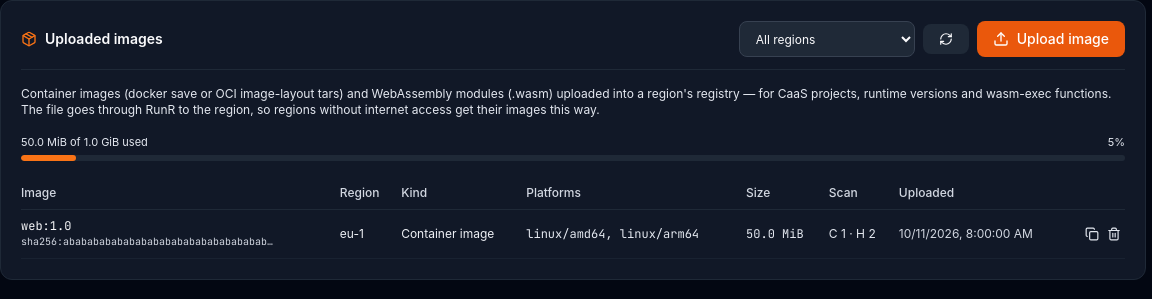
ImagesManager › deletes after confirming and refreshes the quota
Click the button with test id "image-delete".
click(1114, 234)  # box x1=1103 y1=222 x2=1125 y2=244
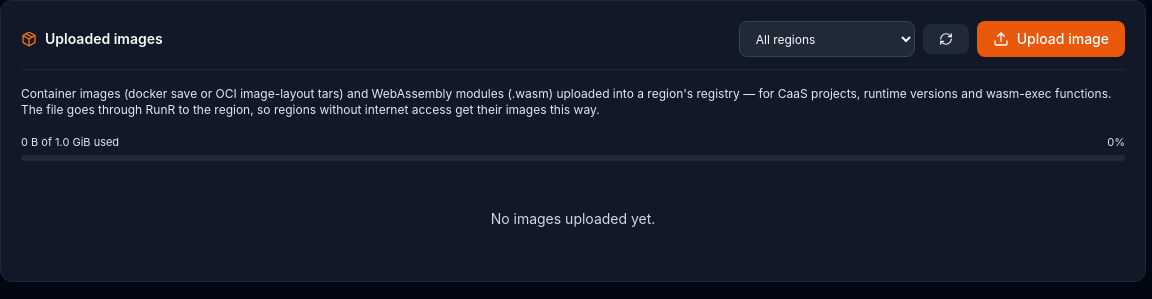
Result: the text "No images uploaded yet." is shown at x1=491 y1=210 x2=655 y2=226
